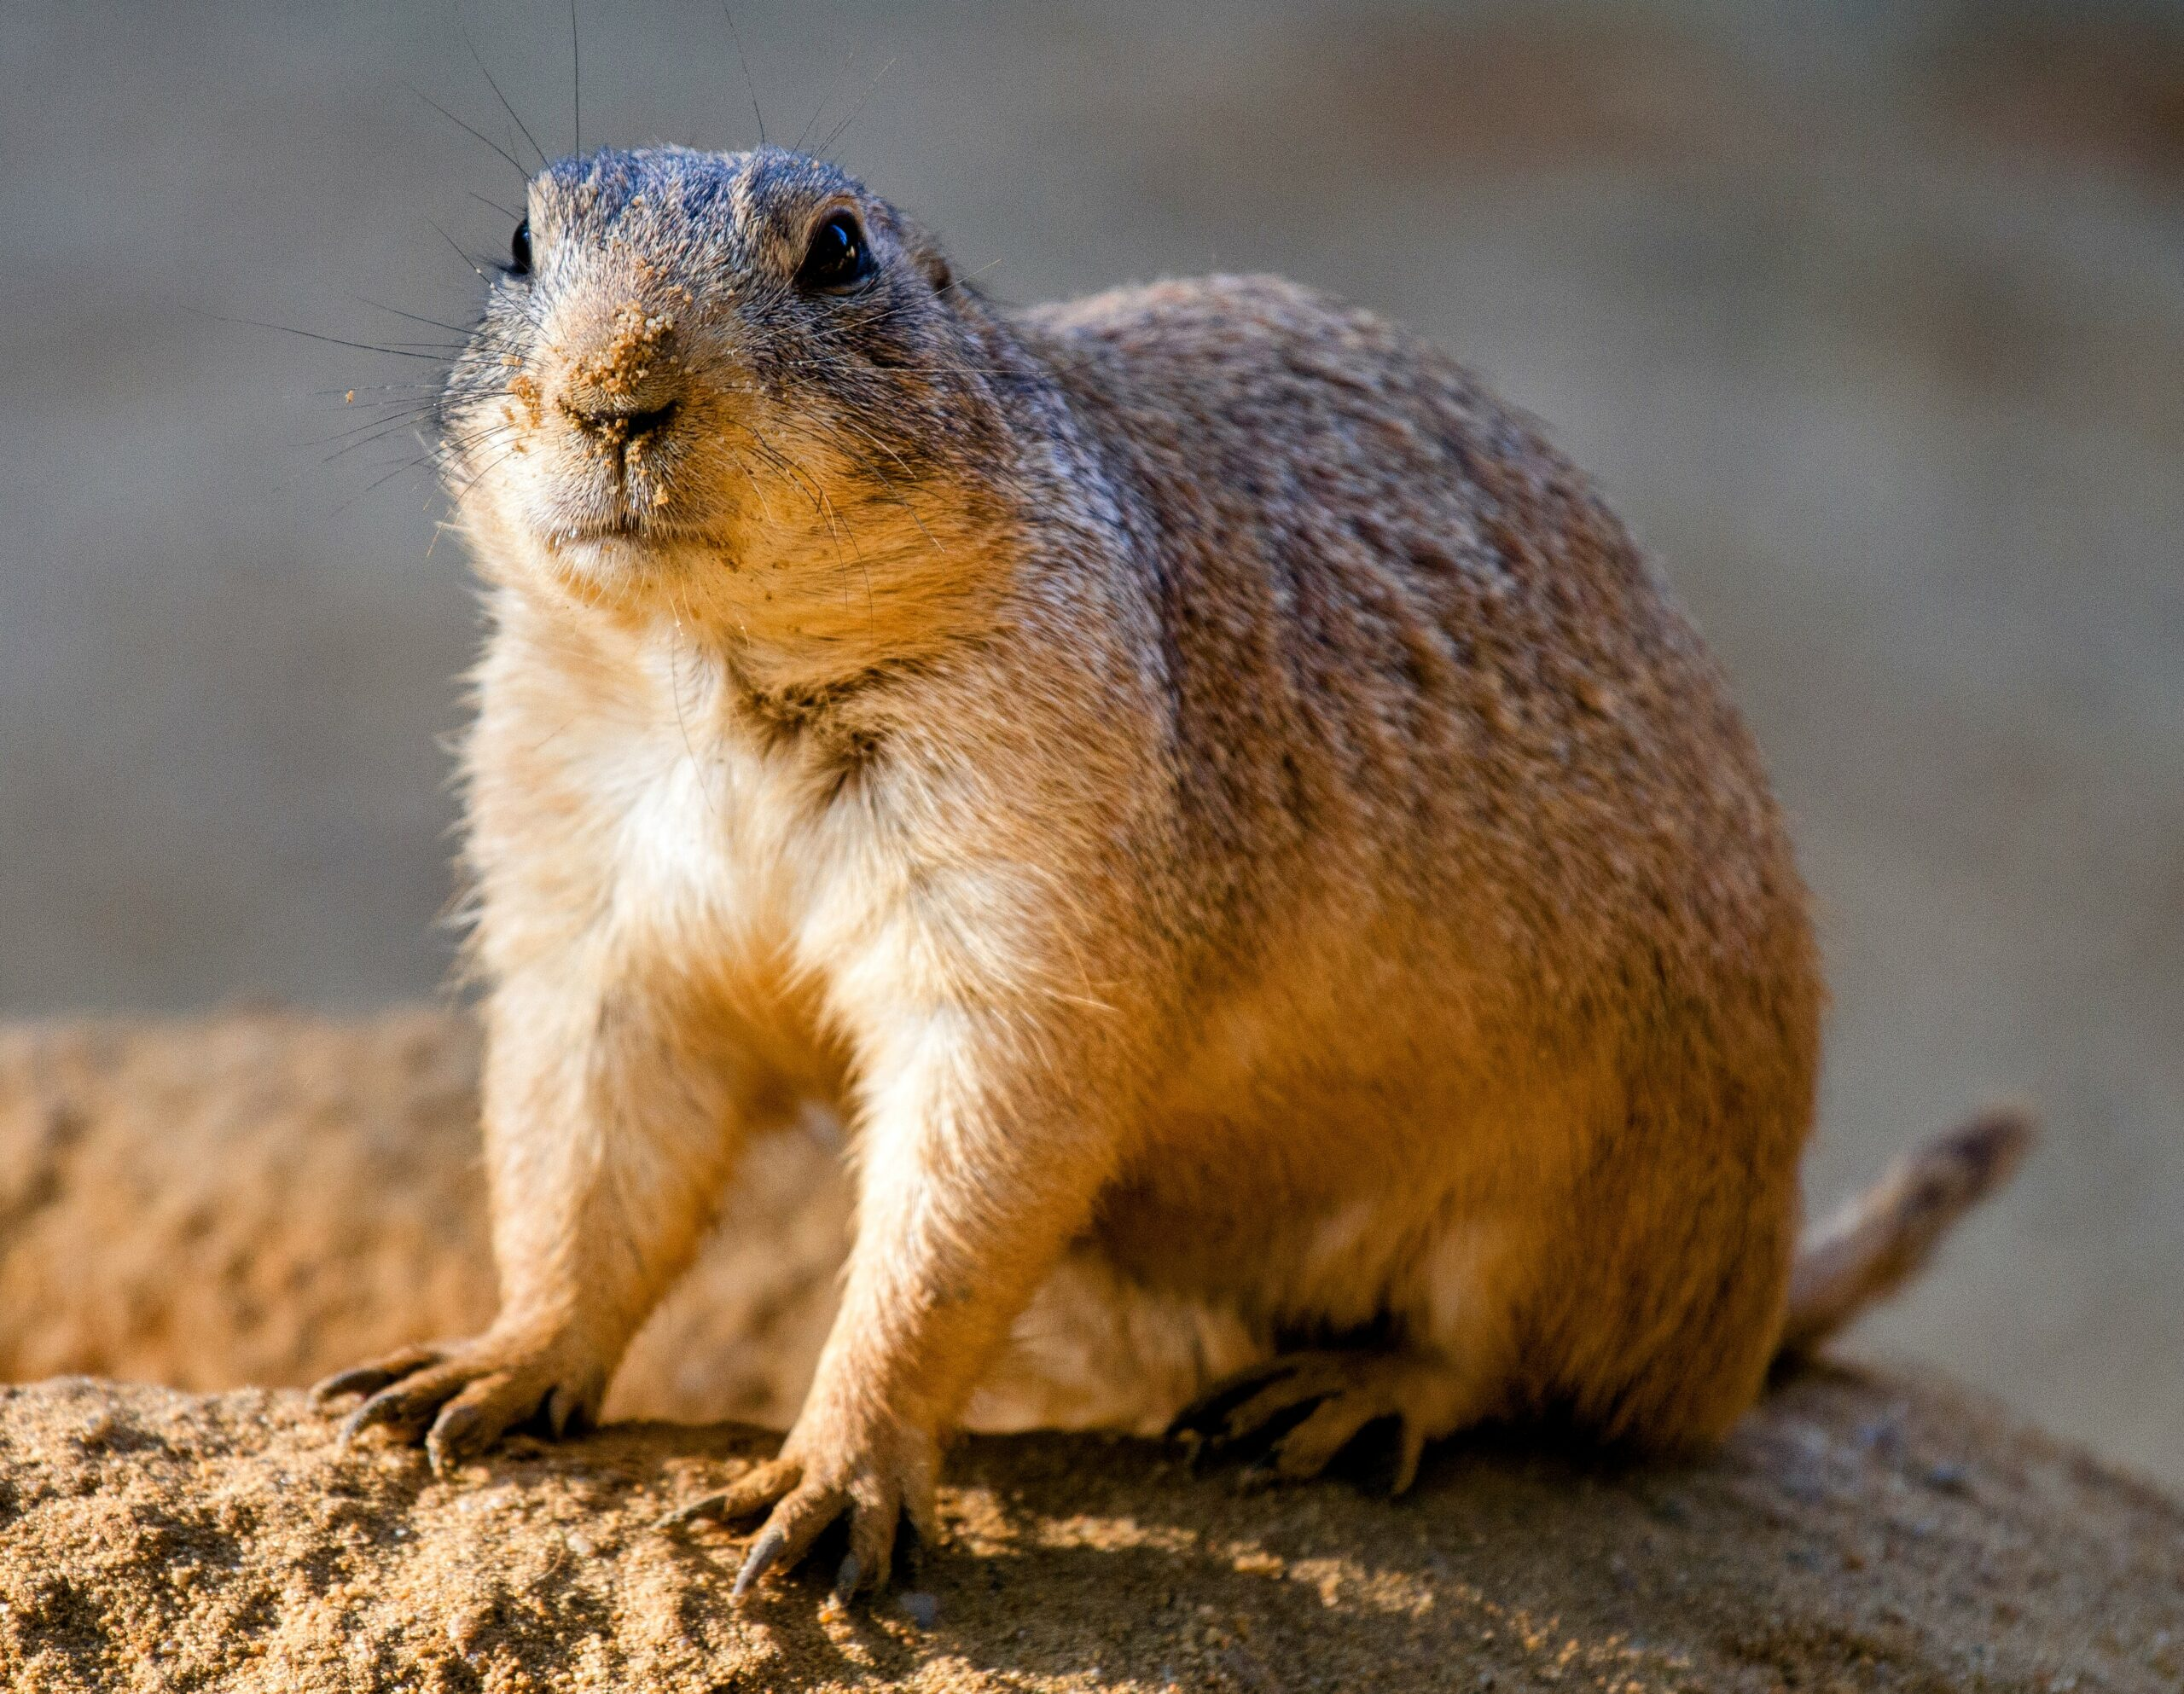gopher: (383, 140, 2042, 1556)
